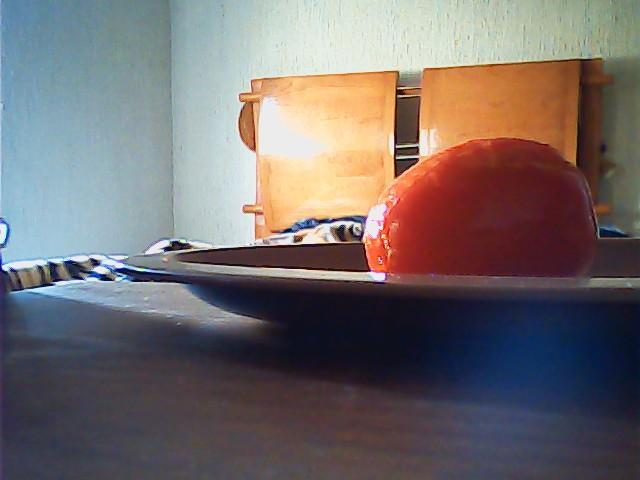maduro: (356, 138, 604, 281)
